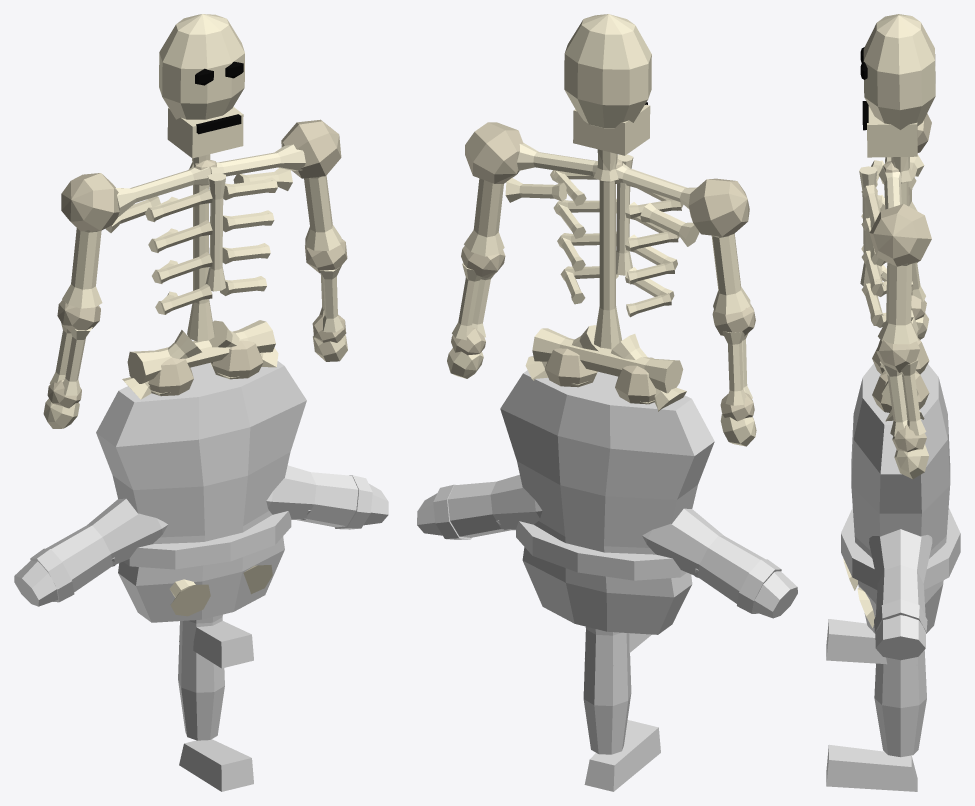
The model's file is base_skeleton.glb.
3 renders of one model, left to right at view 1: azimuth 30°, elevation 25°; view 2: azimuth 150°, elevation 25°; view 3: azimuth 270°, elevation 25°, orthographic. The views are drawn at different scales.
Parts seen in each view (by area): view 1: CutMode_RoundishTorso, Skel_Skull, CutMode_L_LegFoot_Unified, CutMode_L_ArmHand_Unified, CutMode_R_ArmHand_Unified, CutMode_BeltBand, CutMode_R_LegFoot_Unified, Skel_Joint_L_Shoulder, Skel_Pelvis_Crossbar, Skel_Joint_R_Shoulder, Skel_JawBlock, Skel_L_Humerus (+26 smaller); view 2: CutMode_RoundishTorso, Skel_Skull, CutMode_L_LegFoot_Unified, CutMode_L_ArmHand_Unified, CutMode_R_ArmHand_Unified, CutMode_BeltBand, Skel_Spine, Skel_Pelvis_Crossbar, Skel_Joint_L_Shoulder, Skel_Joint_R_Shoulder, CutMode_R_LegFoot_Unified, Skel_JawBlock (+19 smaller); view 3: CutMode_RoundishTorso, CutMode_L_LegFoot_Unified, Skel_Skull, CutMode_R_LegFoot_Unified, CutMode_R_ArmHand_Unified, Skel_Joint_R_Shoulder, CutMode_BeltBand, Skel_R_Humerus, CutMode_L_CalfFoot, Skel_JawBlock, Skel_R_RadiusUlna_B, Skel_R_RadiusUlna_A (+19 smaller).
Part boxes in pixels (left/top/right/bottom): CutMode_RoundishTorso: left=96, top=361, right=306, bottom=622; Skel_Skull: left=159, top=14, right=244, bottom=119; CutMode_L_LegFoot_Unified: left=178, top=614, right=253, bottom=791; CutMode_L_ArmHand_Unified: left=14, top=498, right=168, bottom=606; CutMode_R_ArmHand_Unified: left=266, top=465, right=388, bottom=527; CutMode_BeltBand: left=123, top=511, right=291, bottom=569; CutMode_R_LegFoot_Unified: left=179, top=615, right=249, bottom=790; Skel_Joint_L_Shoulder: left=61, top=173, right=119, bottom=231; Skel_Pelvis_Crossbar: left=127, top=320, right=275, bottom=383; Skel_Joint_R_Shoulder: left=281, top=119, right=341, bottom=178; Skel_JawBlock: left=167, top=107, right=243, bottom=158; Skel_L_Humerus: left=62, top=228, right=102, bottom=308; CutMode_RoundishTorso: left=500, top=370, right=714, bottom=634; Skel_Skull: left=564, top=14, right=651, bottom=128; CutMode_L_LegFoot_Unified: left=583, top=626, right=660, bottom=791; CutMode_L_ArmHand_Unified: left=642, top=508, right=797, bottom=618; CutMode_R_ArmHand_Unified: left=417, top=474, right=542, bottom=537; CutMode_BeltBand: left=516, top=521, right=686, bottom=580; Skel_Spine: left=594, top=149, right=621, bottom=348; Skel_Pelvis_Crossbar: left=532, top=328, right=683, bottom=393; Skel_Joint_L_Shoulder: left=688, top=178, right=749, bottom=236; Skel_Joint_R_Shoulder: left=465, top=122, right=523, bottom=183; CutMode_R_LegFoot_Unified: left=584, top=636, right=657, bottom=791; Skel_JawBlock: left=573, top=104, right=650, bottom=155; CutMode_RoundishTorso: left=851, top=363, right=950, bottom=633; CutMode_L_LegFoot_Unified: left=827, top=650, right=926, bottom=791; Skel_Skull: left=863, top=14, right=935, bottom=129; CutMode_R_LegFoot_Unified: left=826, top=650, right=926, bottom=791; CutMode_R_ArmHand_Unified: left=869, top=529, right=932, bottom=660; Skel_Joint_R_Shoulder: left=869, top=204, right=931, bottom=266; CutMode_BeltBand: left=841, top=508, right=960, bottom=589; Skel_R_Humerus: left=878, top=262, right=918, bottom=344; CutMode_L_CalfFoot: left=826, top=619, right=917, bottom=665; Skel_JawBlock: left=867, top=106, right=917, bottom=157; Skel_R_RadiusUlna_B: left=901, top=359, right=926, bottom=435; Skel_R_RadiusUlna_A: left=880, top=361, right=907, bottom=436.
Size of the model in its own units: 1.77 by 3.54 by 0.5596.
